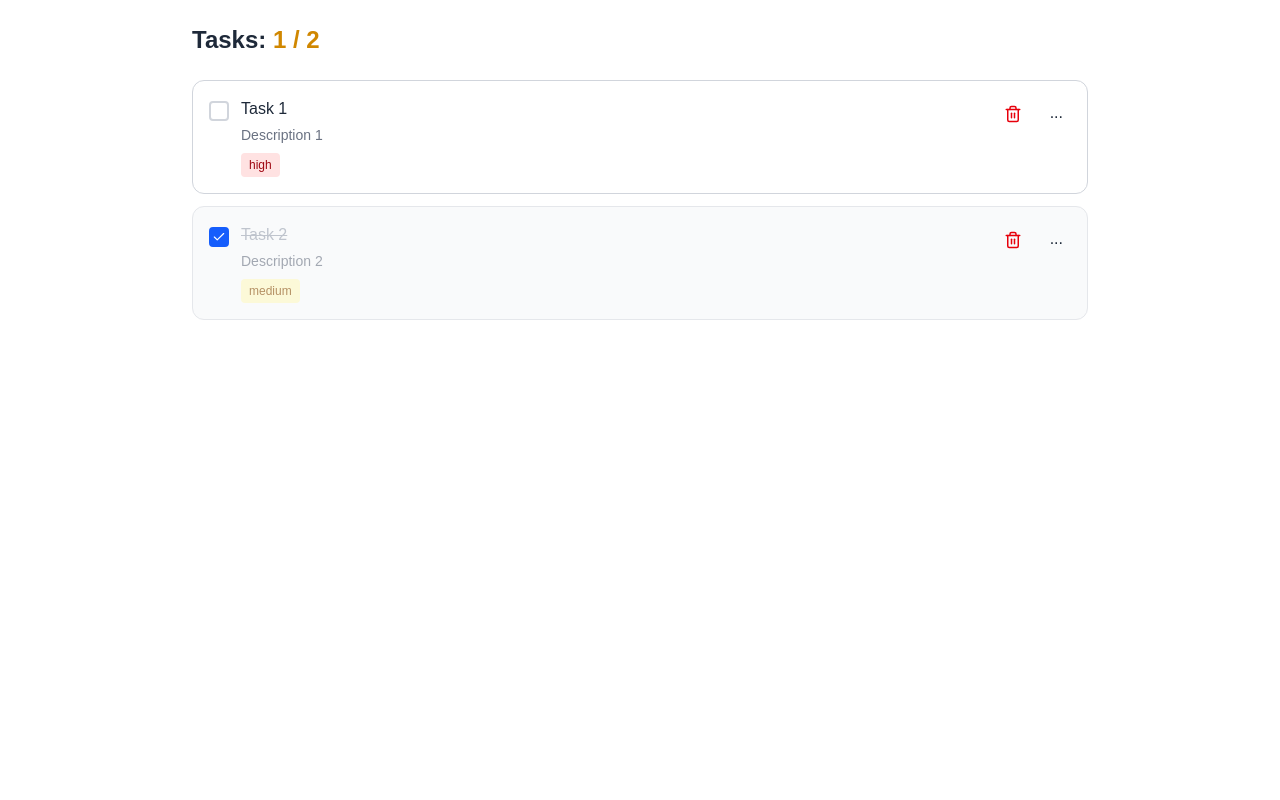
Test: TasksSection › Task Update › should restore previous task details when undo is clicked
The image size is (1280, 800).
Expected: the heading "Task 1" is shown, [241, 100, 287, 117]
Click the button named "Edit task" at (1056, 113), box [1042, 97, 1071, 129]
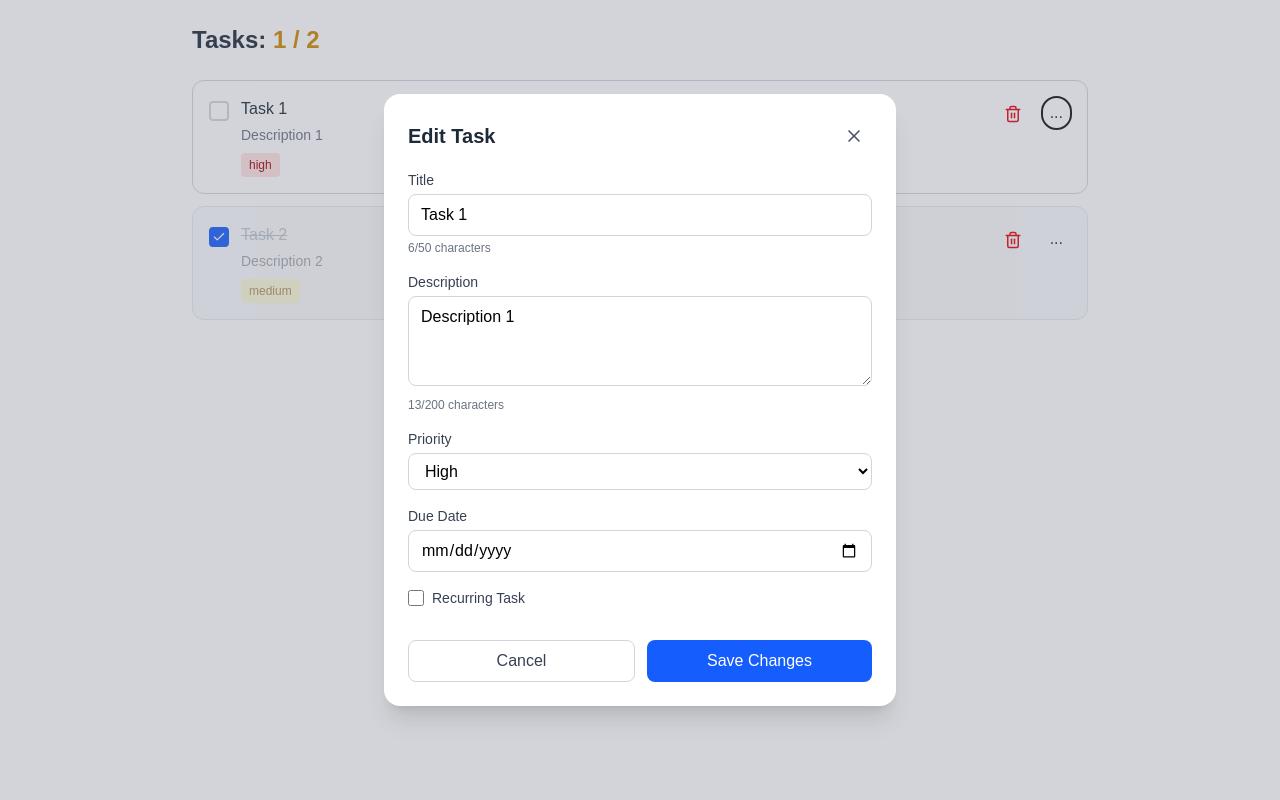
Result: the heading "Edit Task" is shown at [408, 122, 495, 150]
Replace the text in the field labelled "Title" with "Updated Task" at (640, 215), box [408, 194, 872, 236]
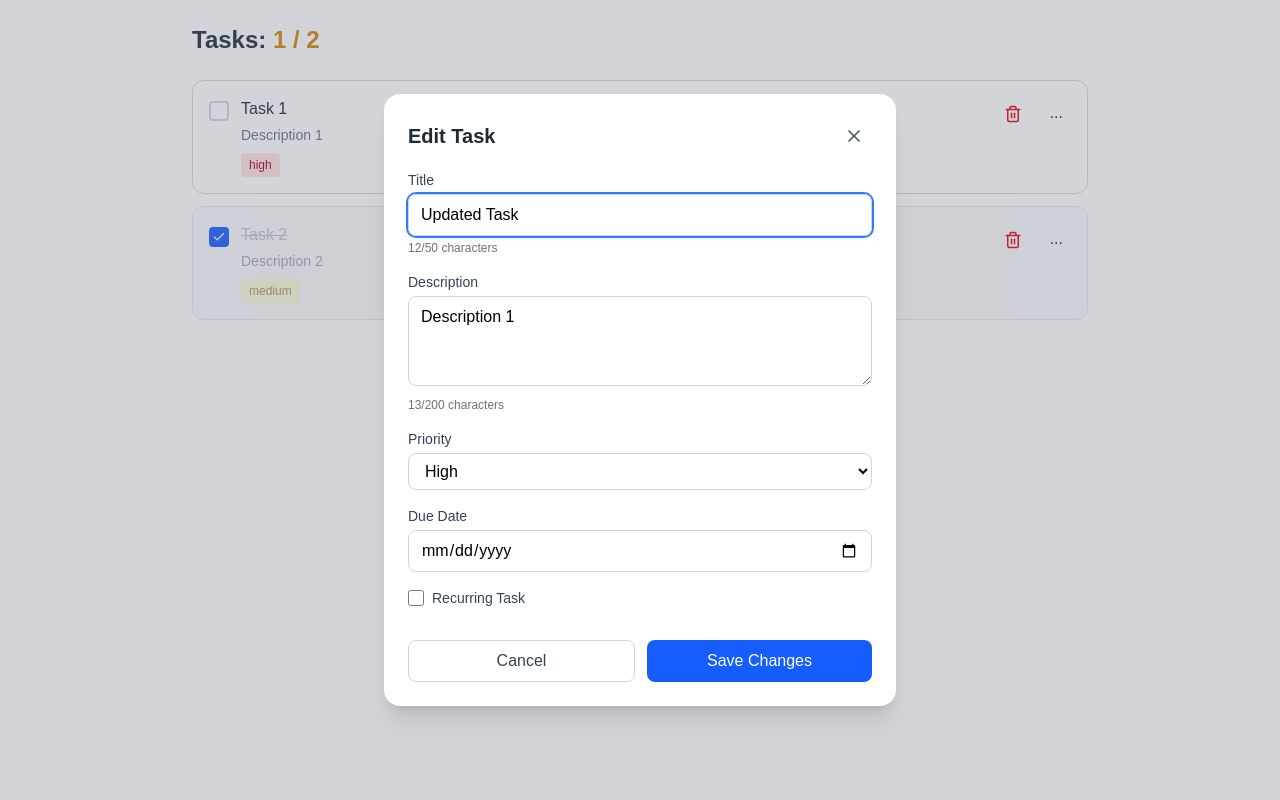
Click the button "Save Changes" at (760, 661), box [647, 640, 872, 682]
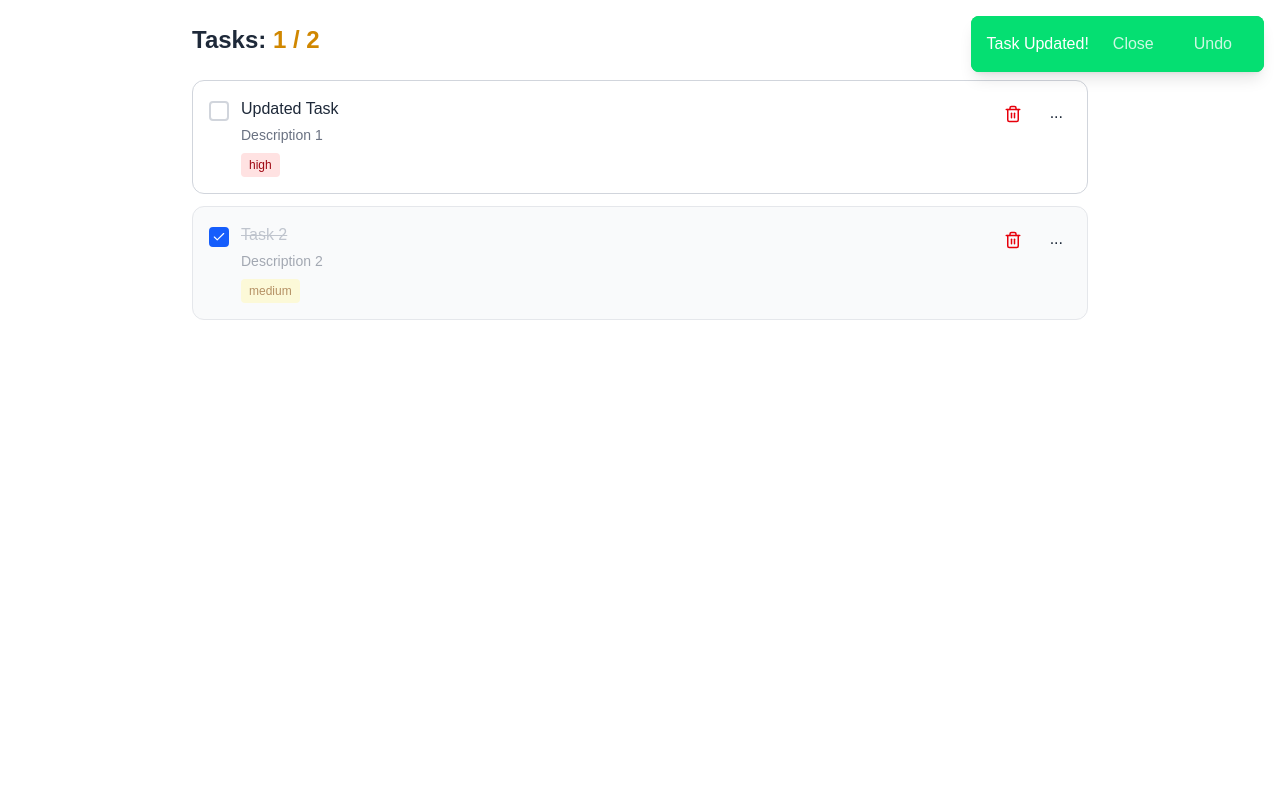
Result: the button "Undo" is shown
Click the button "Undo" at (1213, 44), box [1178, 28, 1248, 60]
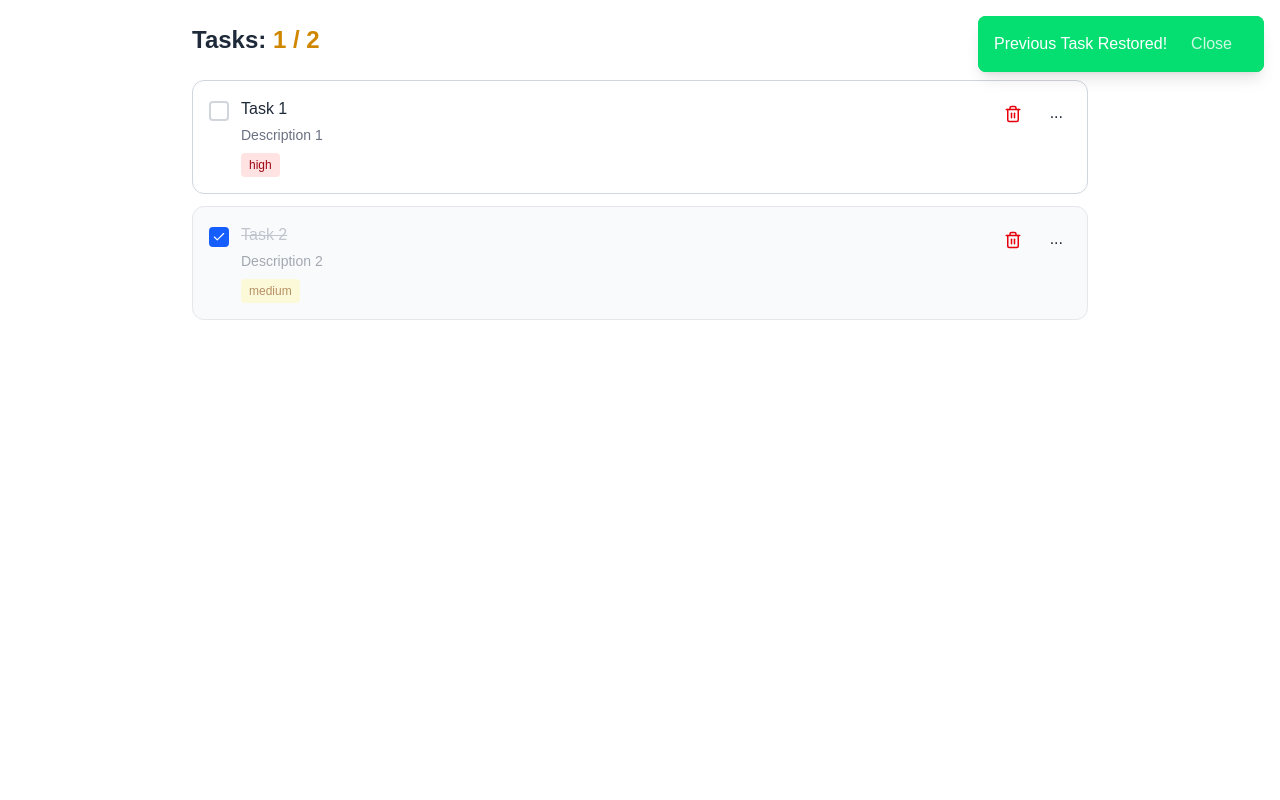
Result: the text "Previous Task Restored!" is shown at [994, 35, 1167, 52]
